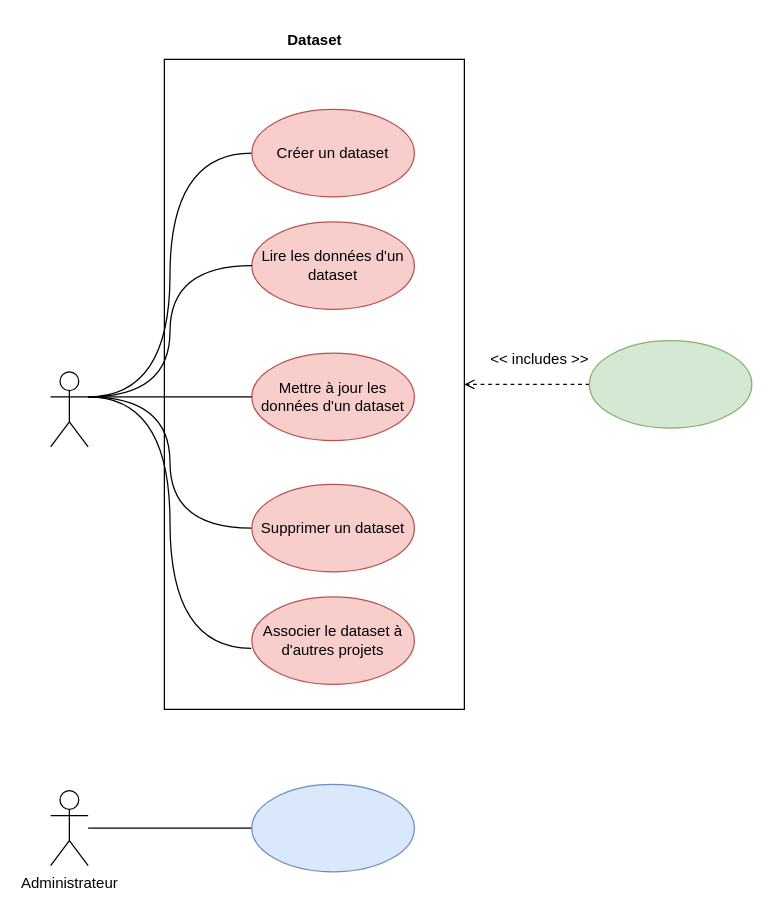
This 774x913 diagram has some shape labels left out. Each missing label, with the centre of its shape:
"Gestion des authentifications" belongs at [332,827].
"S'authentifier" belongs at [670,383].
"Utilisateur" belongs at [68,409].
